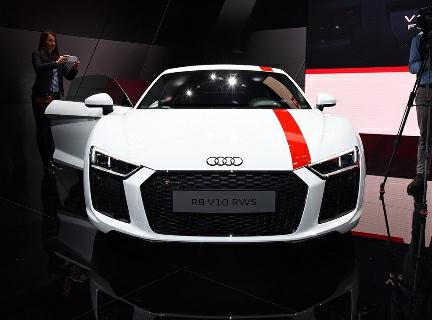奥迪-R8: (75, 60, 375, 250)
